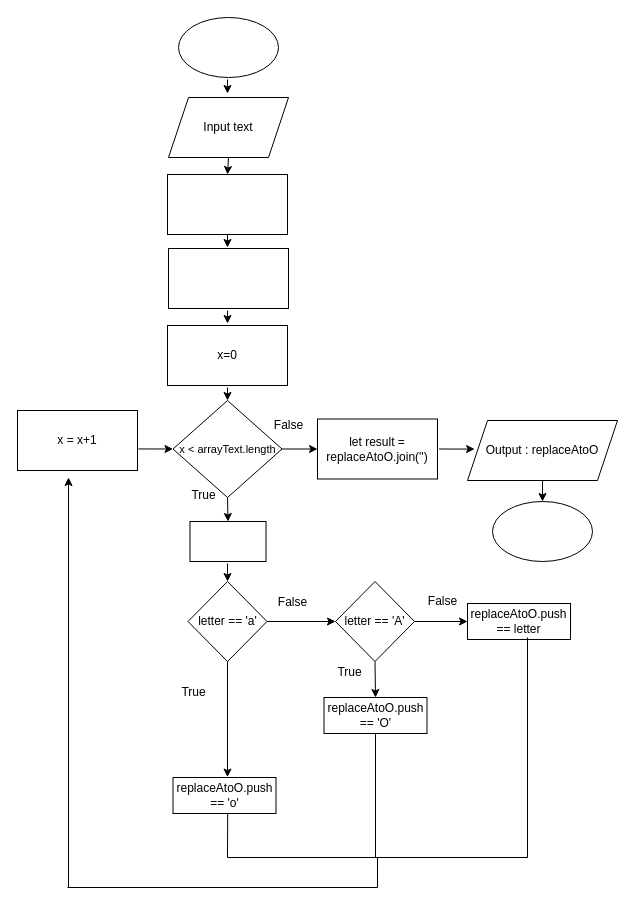
Some shapes in this 635 by 913 pixel diagram are drawn without their labels. The shapes that lost their labels are listed below. From the top down, each one's centre as x and y in pixels, then its label:
At point 228,47: "Start".
At point 227,204: "let arrayText == text. split('')".
At point 228,278: "let replaceAto0 = []".
At point 227,541: "let letter = arrayText[x]".
At point 542,531: "End".
